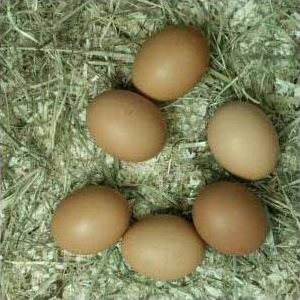egg: (131, 27, 211, 106), (205, 99, 281, 182), (118, 214, 209, 282), (86, 88, 167, 162), (191, 184, 269, 257), (50, 186, 132, 255)
